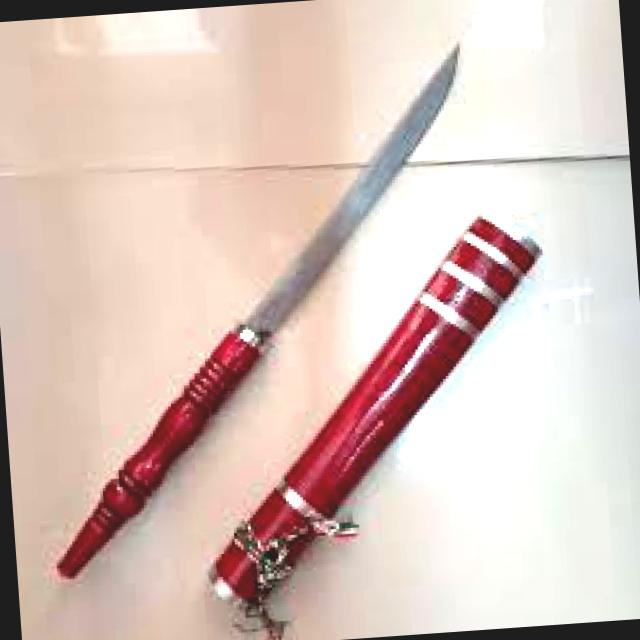long sword: (14, 37, 528, 585)
